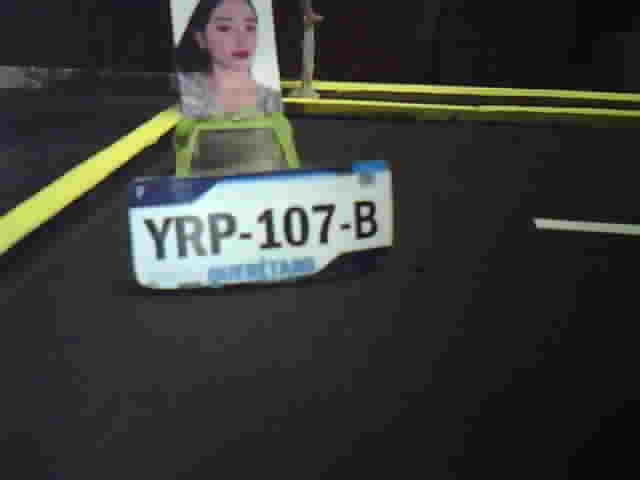PLACA: (126, 158, 395, 294)
ROSTRO: (175, 3, 279, 117)
